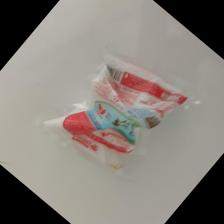Ajinomoto: (40, 48, 194, 175)
